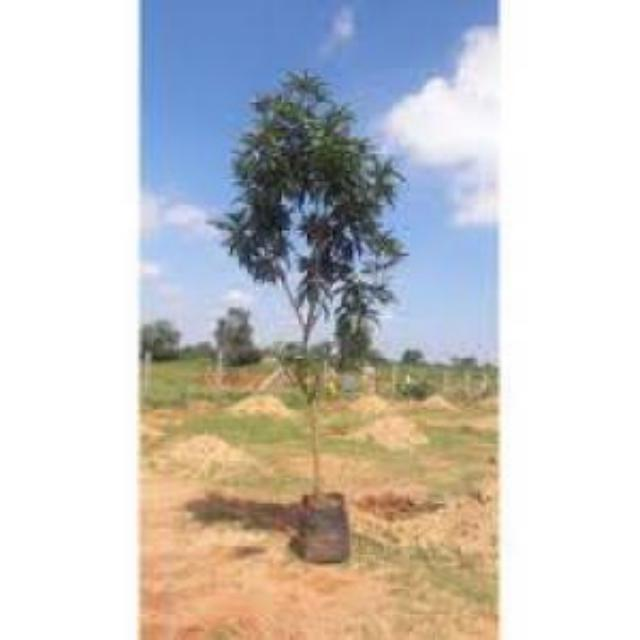tree: (205, 65, 407, 568)
